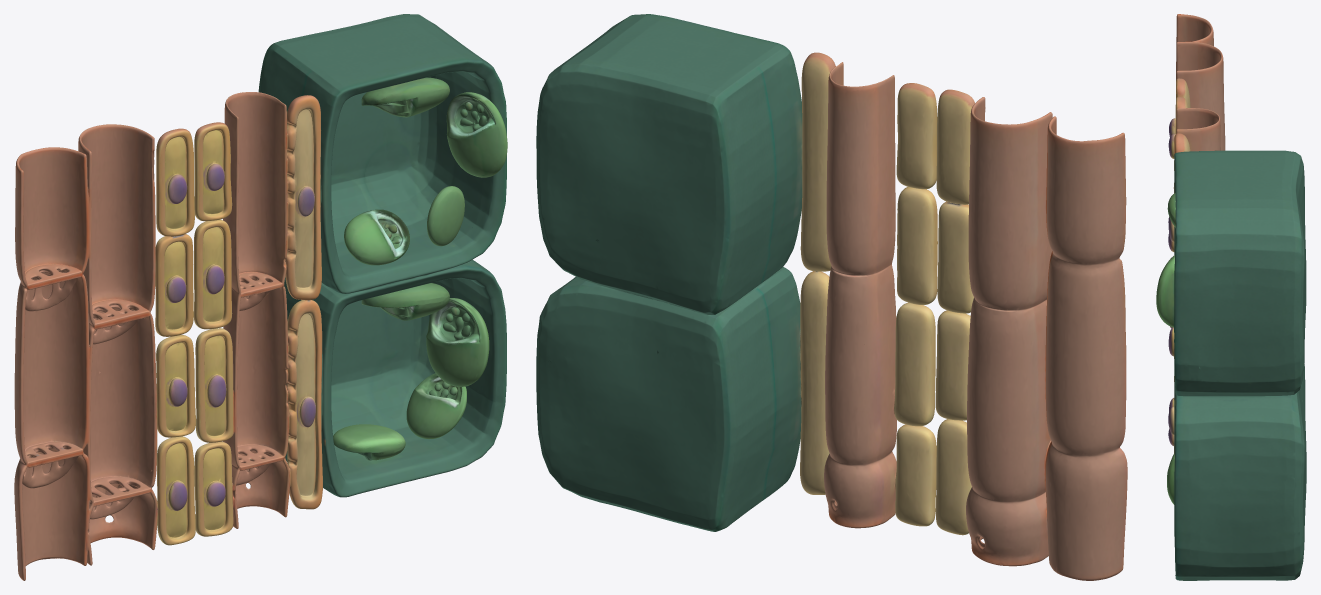
The model's file is Lop11_Hệ mô dẫn ở thực vật_Tab1_Mạch gỗ và mạch rây.glb.
The picture shows the model from 3 angles, left to right: view 1: azimuth 30°, elevation 25°; view 2: azimuth 150°, elevation 25°; view 3: azimuth 270°, elevation 25°; orthographic projection. The views are drawn at different scales.
Parts seen in each view (by area): view 1: tripo_node_08127ae8-c7b6-4553-a309-ac95c2bd8061; view 2: tripo_node_08127ae8-c7b6-4553-a309-ac95c2bd8061; view 3: tripo_node_08127ae8-c7b6-4553-a309-ac95c2bd8061.
Part boxes in pixels (x1,y1,x2,y2): tripo_node_08127ae8-c7b6-4553-a309-ac95c2bd8061: (14, 14, 507, 580); tripo_node_08127ae8-c7b6-4553-a309-ac95c2bd8061: (536, 14, 1127, 580); tripo_node_08127ae8-c7b6-4553-a309-ac95c2bd8061: (1156, 14, 1306, 580).
Bounding box in the file's own units: 1 × 0.8167 × 0.2928.
1 material, 1 textured.
